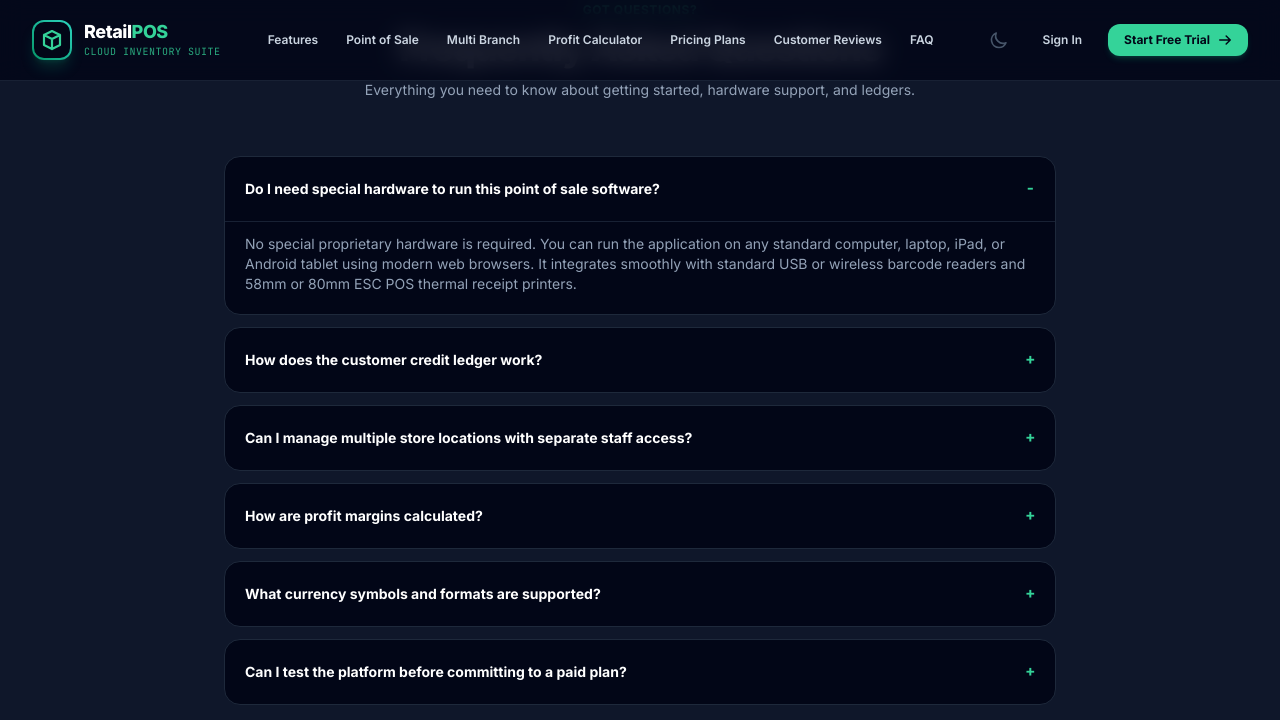
Test: LandingPage Component and SEO › expands and collapses FAQ accordion items
(page scrolled)
Click the button "How does the customer credit ledger work? +". click: (394, 360)
box: [225, 328, 1055, 392]
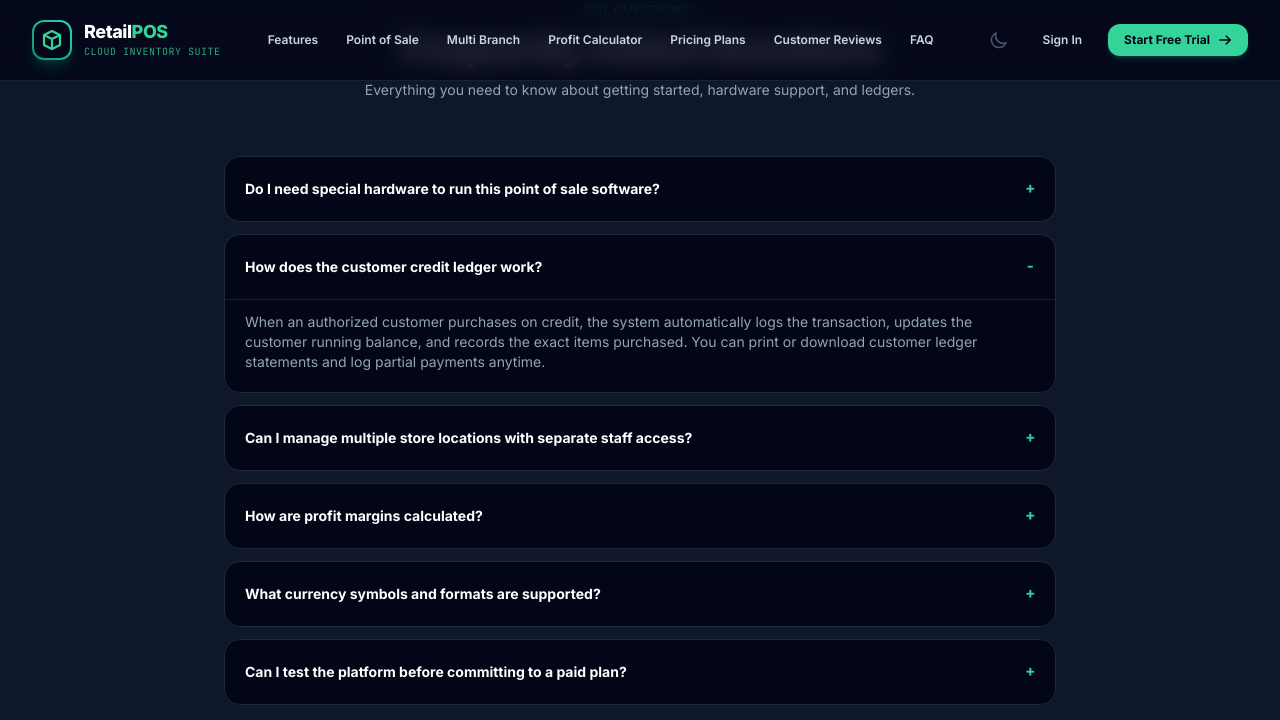
Expected: the text "When an authorized customer purchases on credit" is shown, [245, 313, 977, 370]
